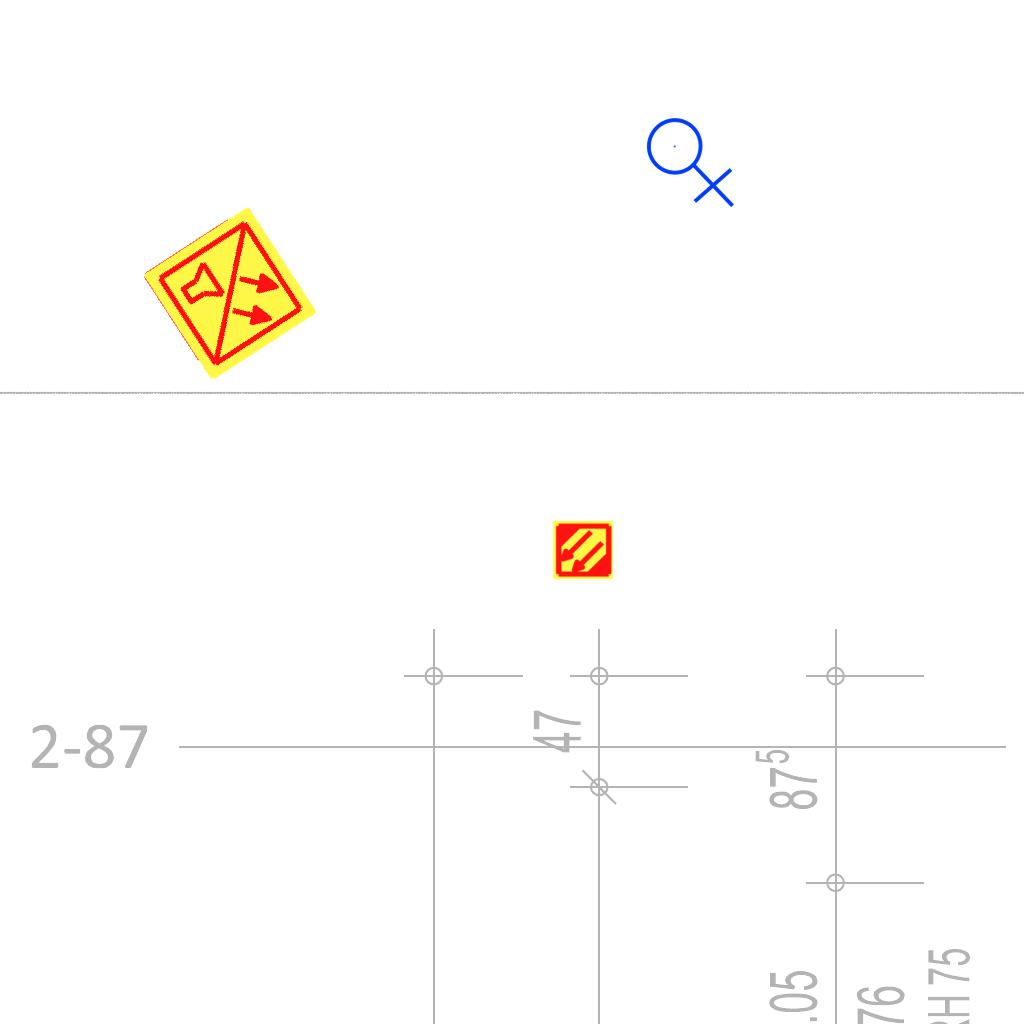ASR_Ansaugrauchmelder: (552, 519, 614, 581)
Elektroanschluss_allgemein_230V_Geraeteanschlussdose_230V: (645, 109, 739, 208)
OKW_Multisensormelder_(Kombination_optischer_Rauch-Kahlenmonoxid_Waerme-Melder): (138, 202, 322, 386)
